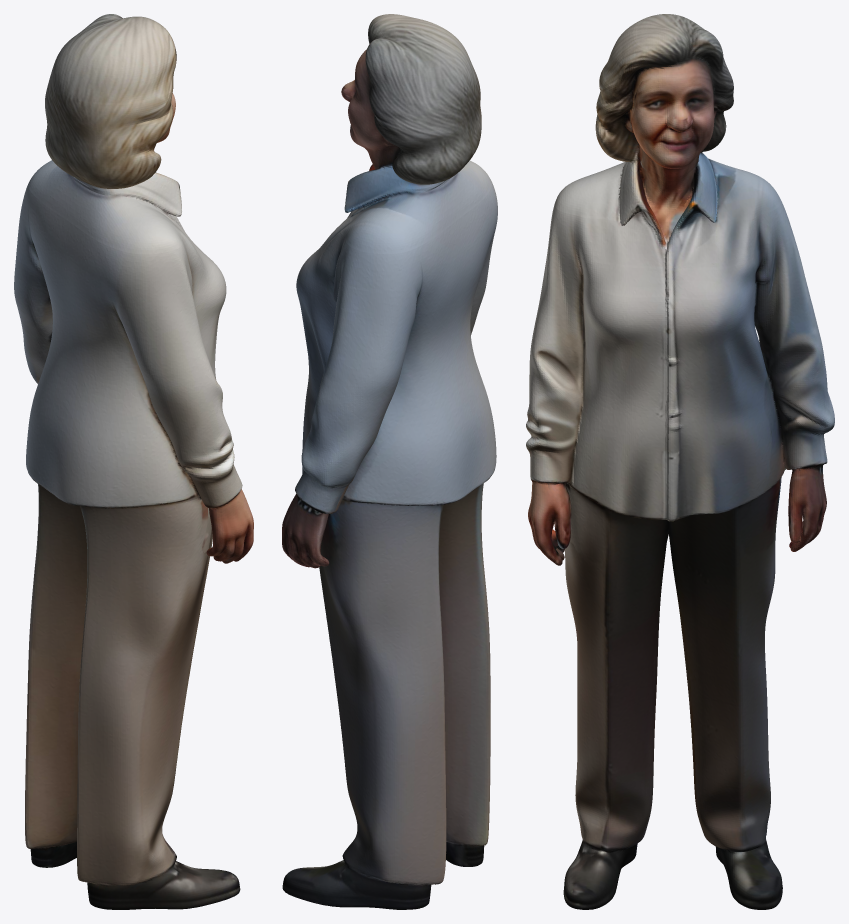
Rendered from descubridor_caral.glb.
3 renders of one model, left to right at view 1: azimuth 30°, elevation 25°; view 2: azimuth 150°, elevation 25°; view 3: azimuth 270°, elevation 25°, orthographic.
Visible parts, largest first — view 1: tripo_node_c1fdfde7-345d-4245-9148-d3402cfcd35d; view 2: tripo_node_c1fdfde7-345d-4245-9148-d3402cfcd35d; view 3: tripo_node_c1fdfde7-345d-4245-9148-d3402cfcd35d.
Part boxes in pixels (x1=…): tripo_node_c1fdfde7-345d-4245-9148-d3402cfcd35d: x1=14, y1=14, x2=253, y2=909; tripo_node_c1fdfde7-345d-4245-9148-d3402cfcd35d: x1=282, y1=14, x2=497, y2=909; tripo_node_c1fdfde7-345d-4245-9148-d3402cfcd35d: x1=526, y1=14, x2=834, y2=909.
Bounding box in the file's own units: 0.1939 × 1 × 0.3281.
Materials: 1 (1 with a texture image).
